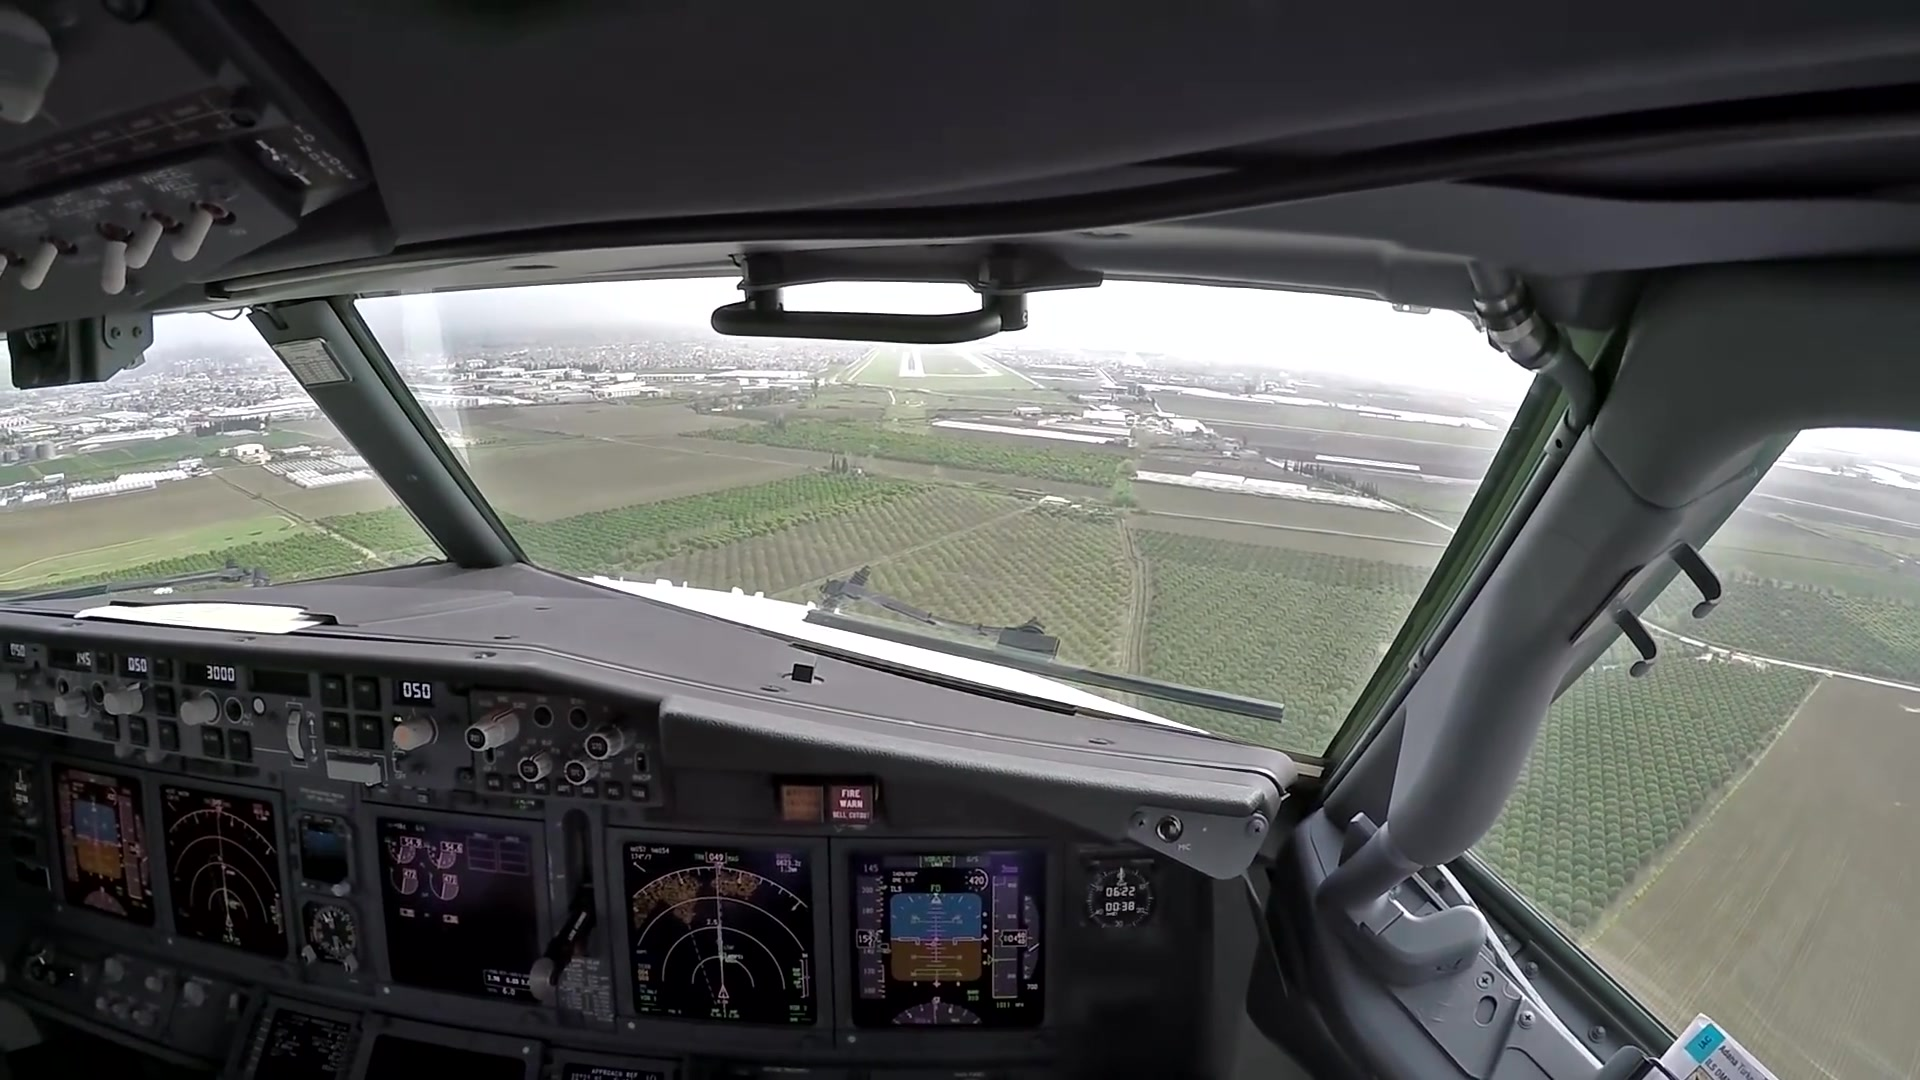runway: (897, 345, 924, 378)
